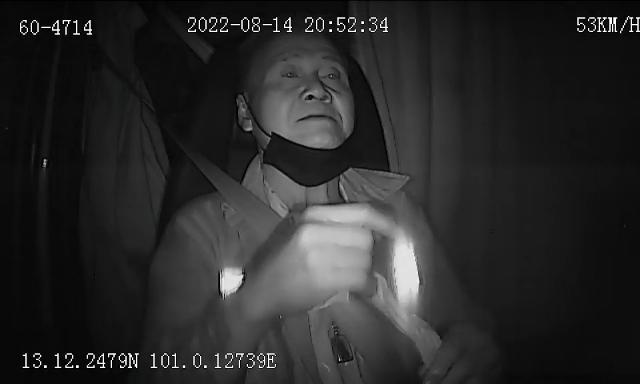SafeDriving: (316, 62, 346, 90), (274, 62, 306, 86)
Seatbelt: (190, 155, 392, 384)
